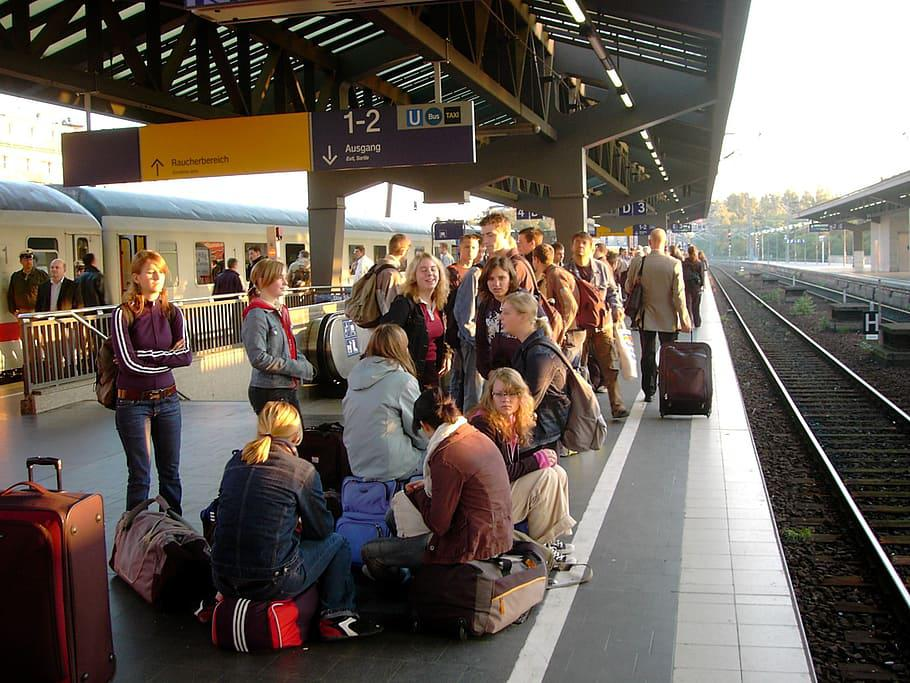without_mask: (1, 1, 910, 683), (482, 368, 543, 428), (246, 247, 293, 312), (126, 250, 176, 301), (494, 296, 545, 340), (477, 256, 526, 300), (476, 207, 522, 252), (409, 250, 450, 300), (570, 224, 602, 272), (49, 247, 73, 290), (17, 241, 38, 278), (350, 238, 373, 262)
